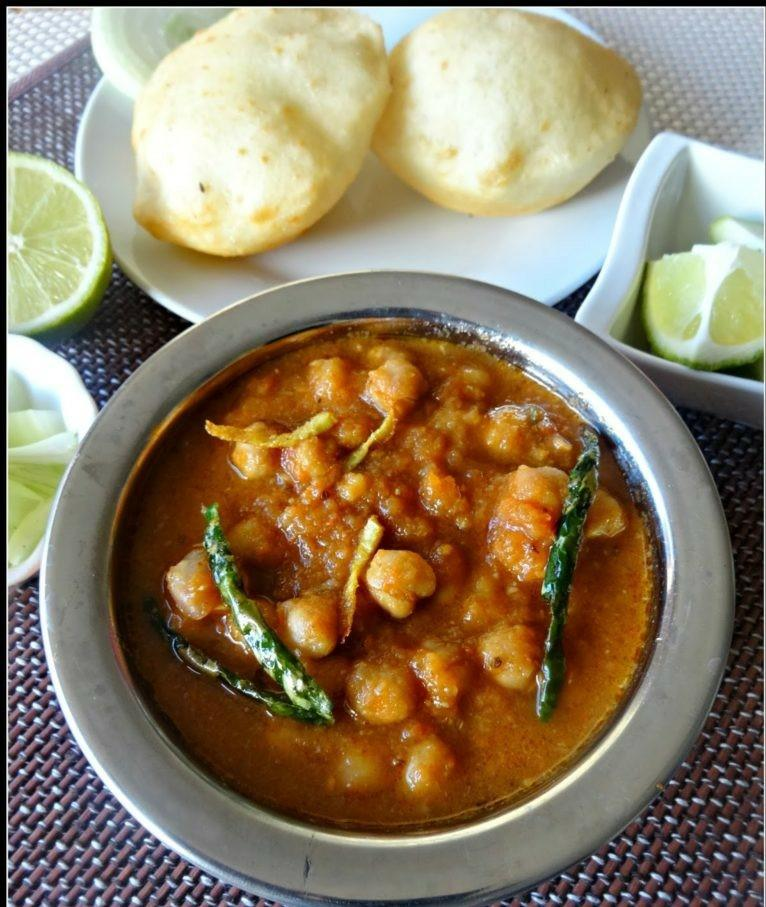Bhatura: (132, 8, 390, 254), (372, 9, 643, 216)
Chole: (111, 338, 653, 831)
